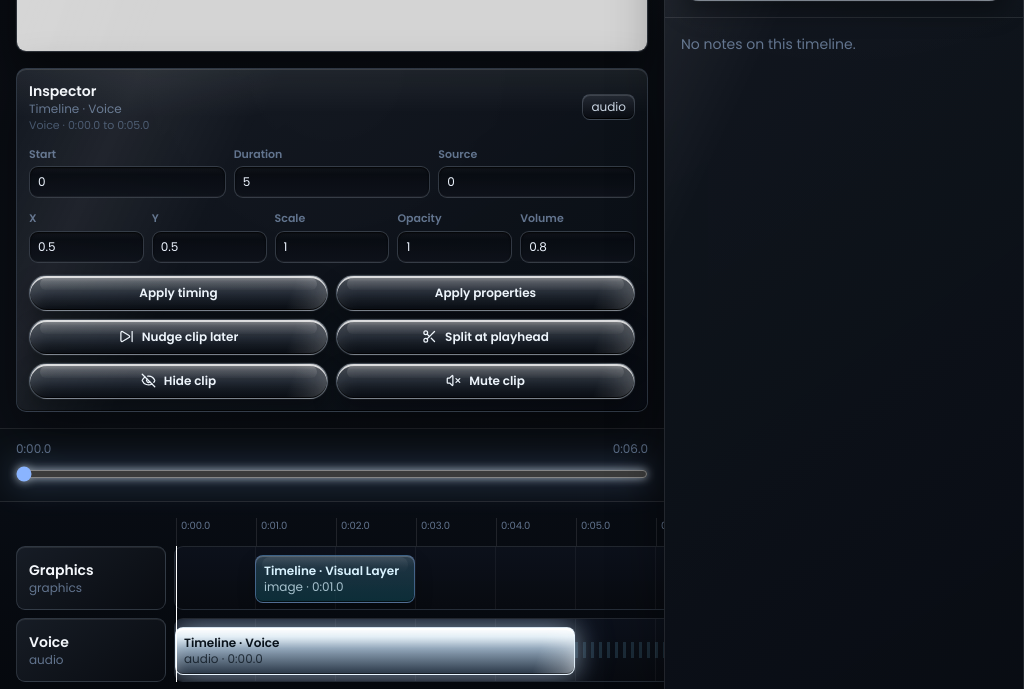
Test: EditorBayPage v2 timeline › attaches notes to an exact clip and timeline time through the command API
(page scrolled)
Click the button "Timeline · Visual Layer image · 0:01.0" at (335, 578), box [255, 554, 415, 602]
(page scrolled)
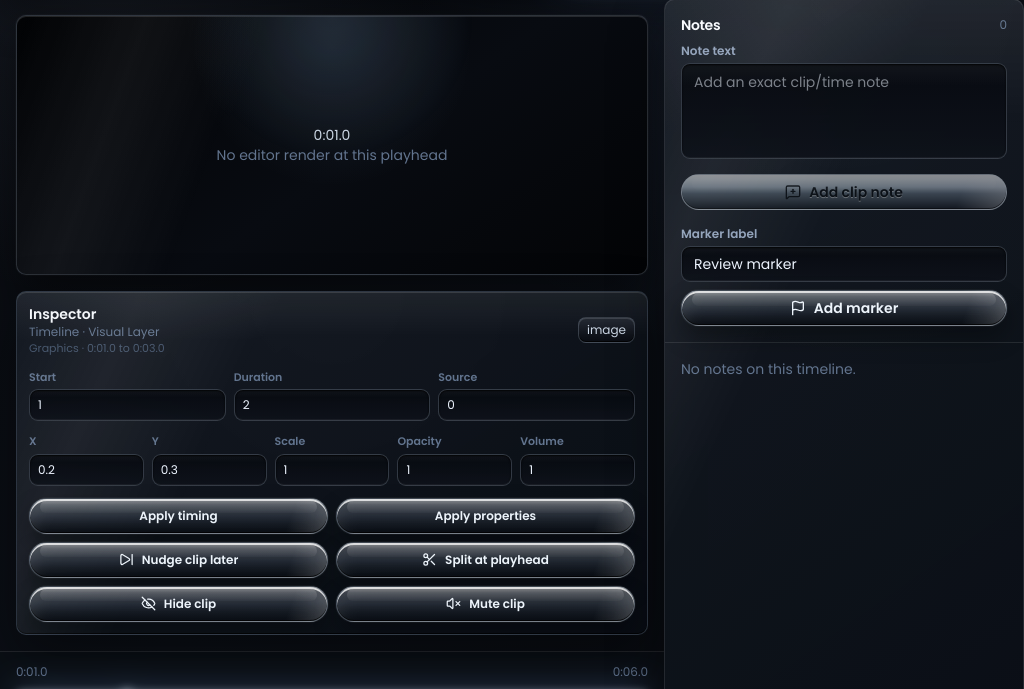
Type "Fix the card timing" into the text box labelled "Note text" at (844, 111), box [681, 63, 1007, 159]
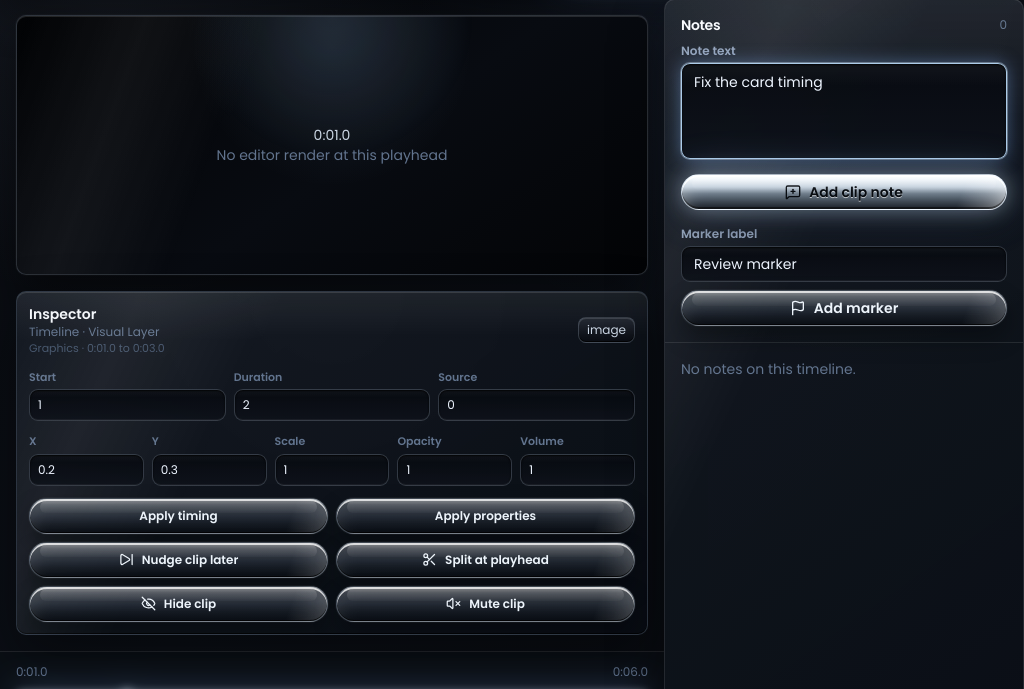
Click the button "Add clip note" at (844, 192), box [681, 174, 1007, 210]
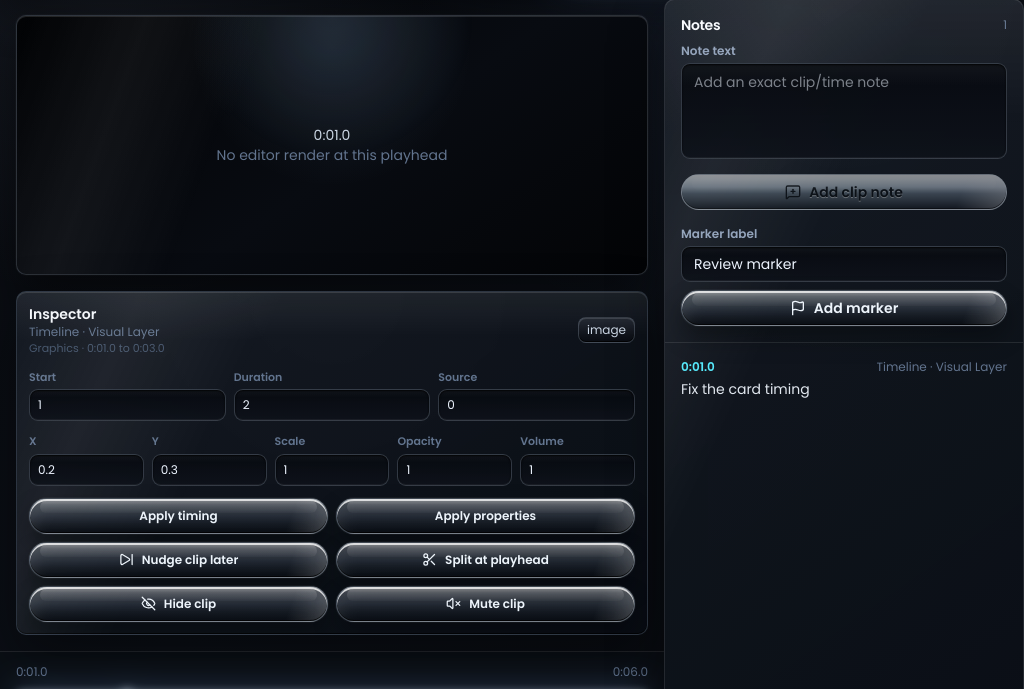
Expected: the text "Fix the card timing" is shown, [681, 379, 810, 399]
Expected: the button "Fix the card timing" shows "Timeline · Visual Layer", [665, 343, 1023, 415]
